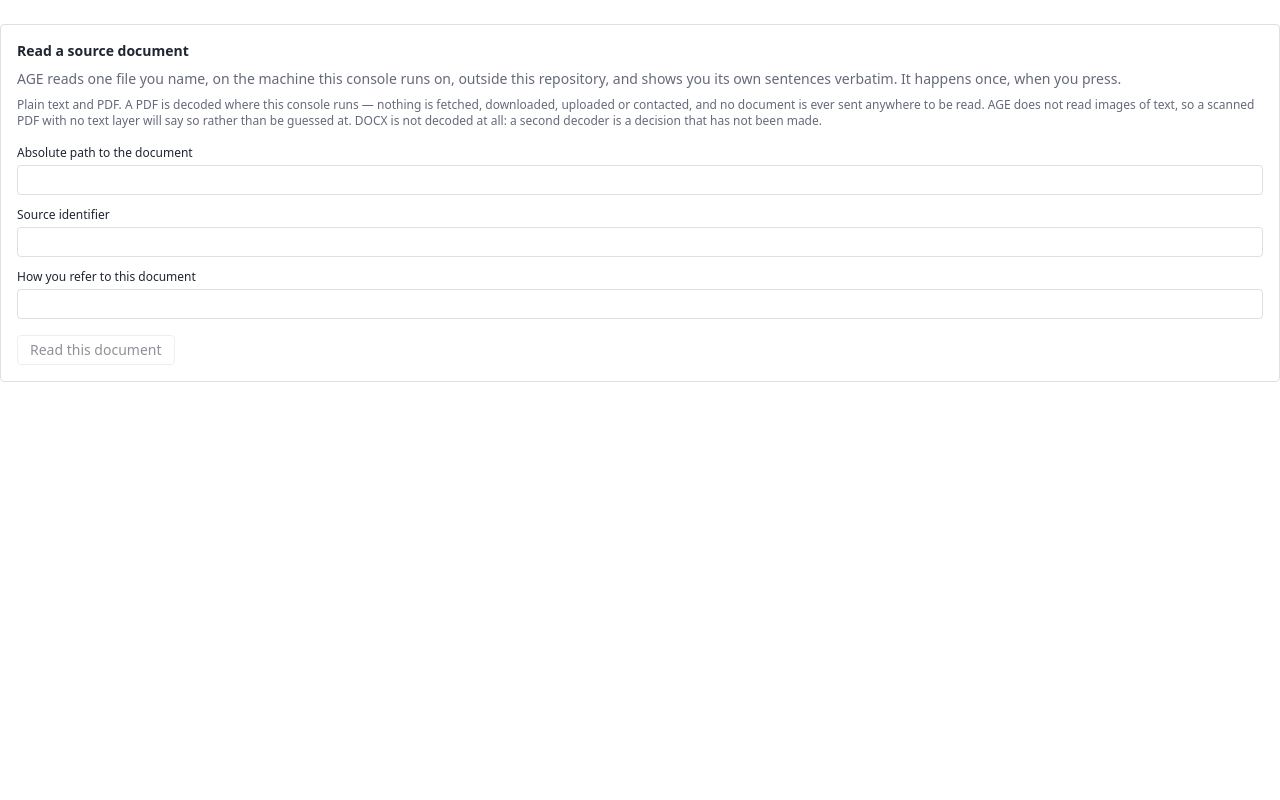
Test case: SourcesPanel › shows the document own words and does not say which question they answer
Type "E:/fictional-operator-files/brief.txt" into the field labelled "Absolute path to the document".
click(640, 180); type("E:/fictional-operator-files/brief.txt")  # box [17, 165, 1263, 195]
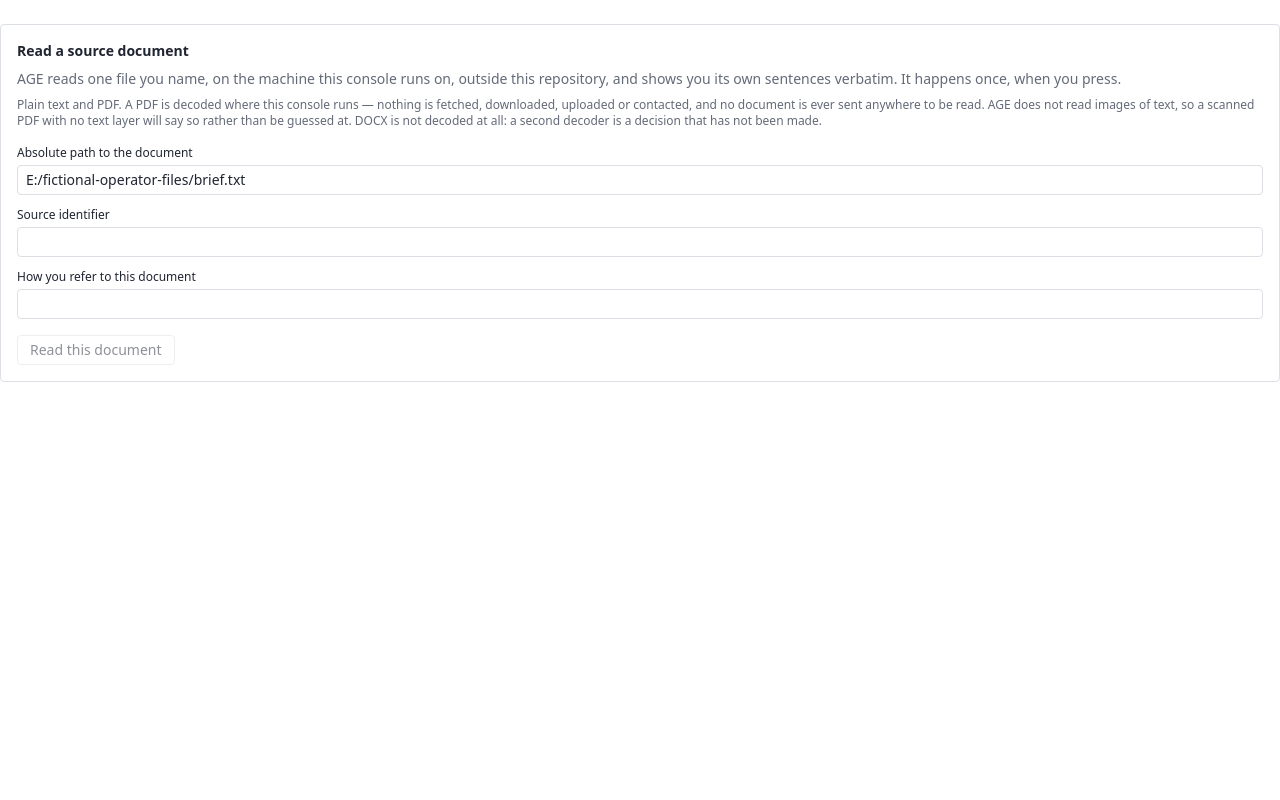
Type "src-fictional-brief" into the field labelled "Source identifier".
click(640, 242); type("src-fictional-brief")  # box [17, 227, 1263, 257]
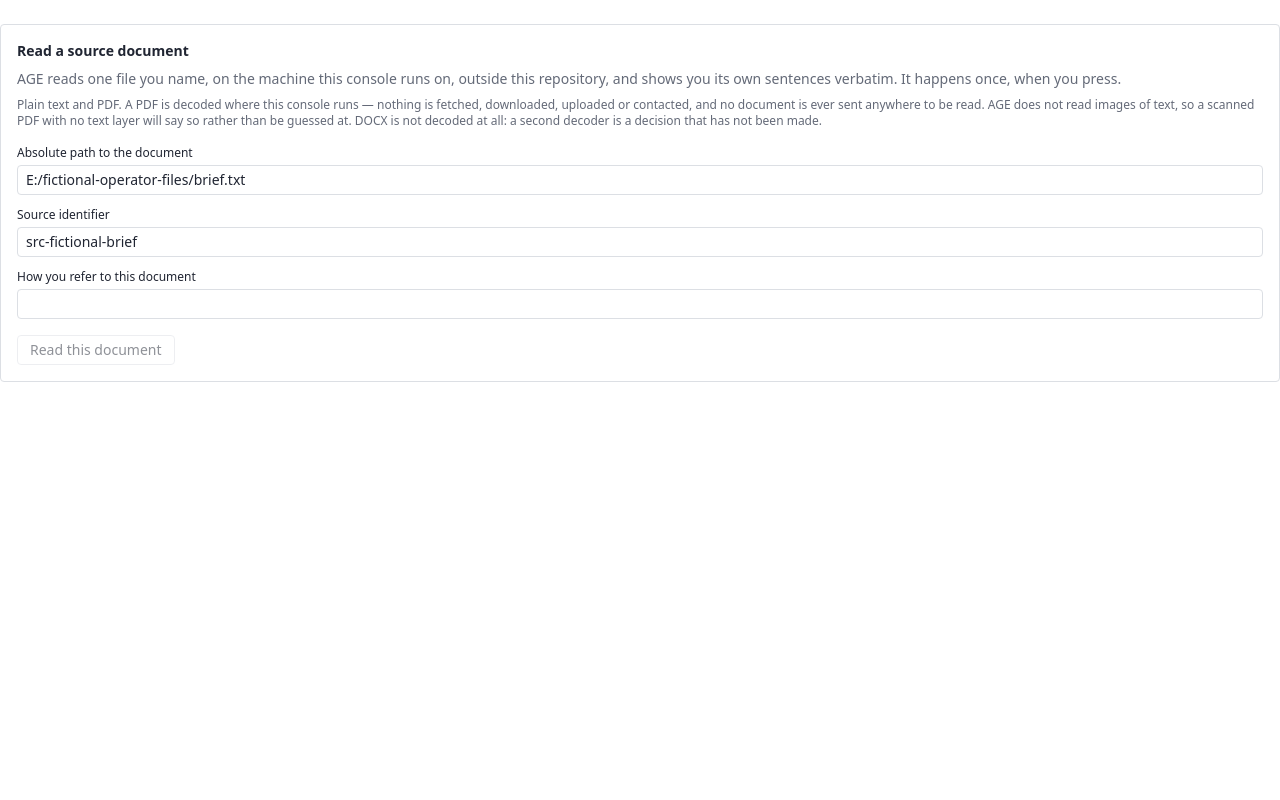
Type "Fictional Kite Repairs brief" into the field labelled "How you refer to this document".
click(640, 304); type("Fictional Kite Repairs brief")  # box [17, 289, 1263, 319]
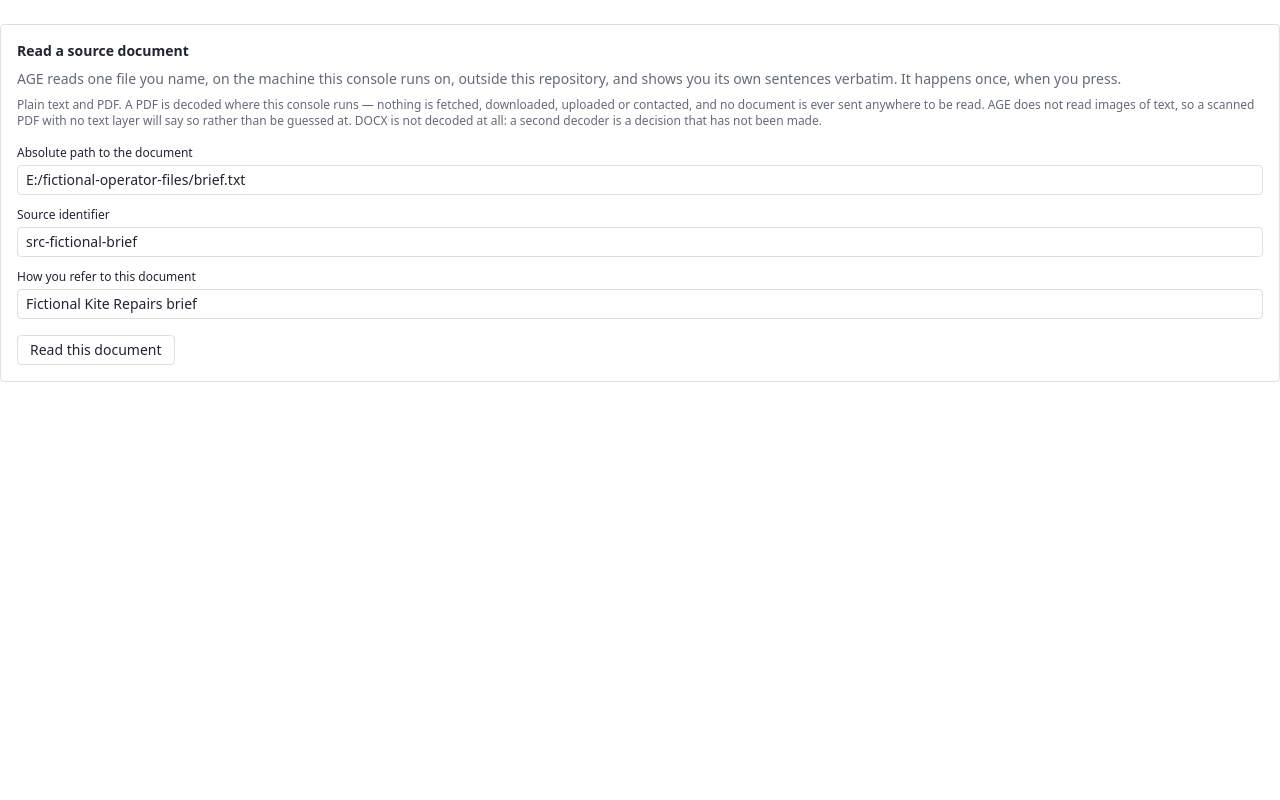
Click the button "Read this document".
click(96, 350)  # box [17, 335, 174, 365]
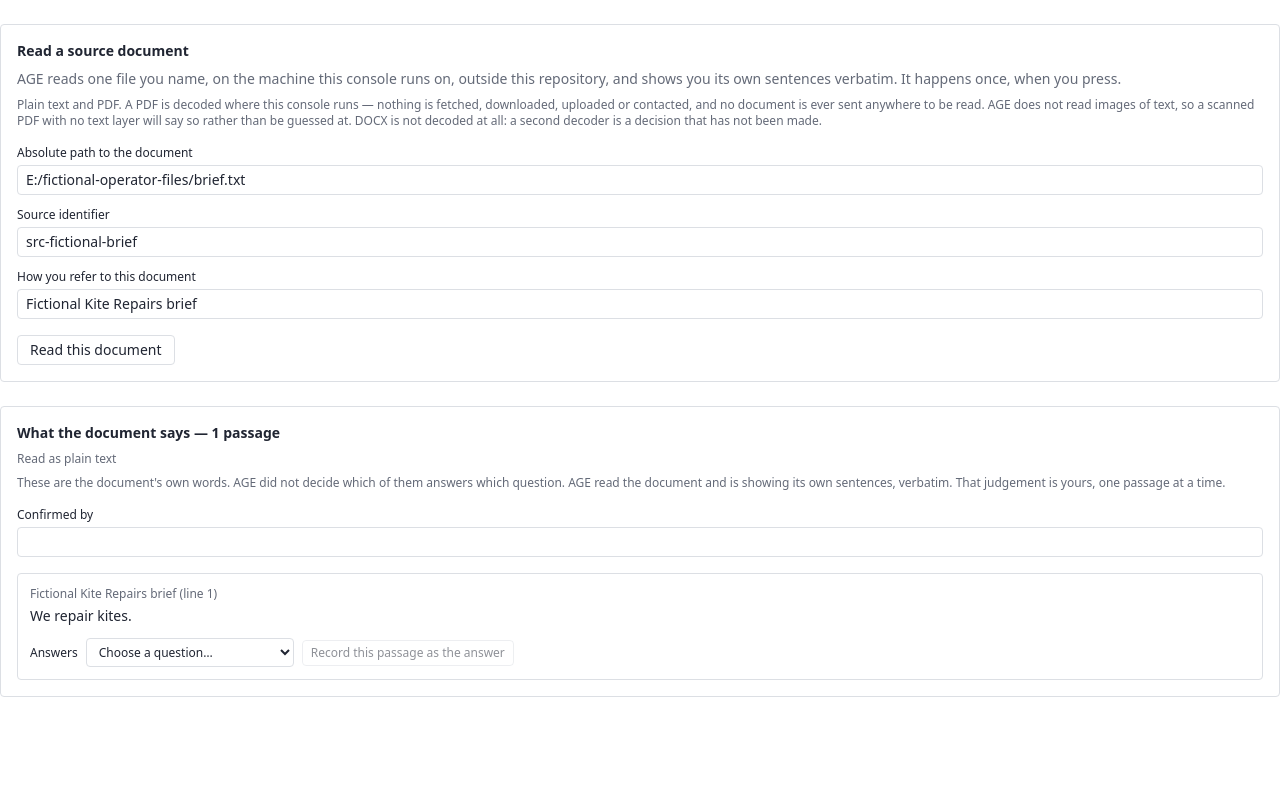
Now the text "We repair kites." is shown, box [30, 606, 132, 625]
Now the text "AGE did not decide which of them answers which question" is shown, box [17, 474, 568, 491]
